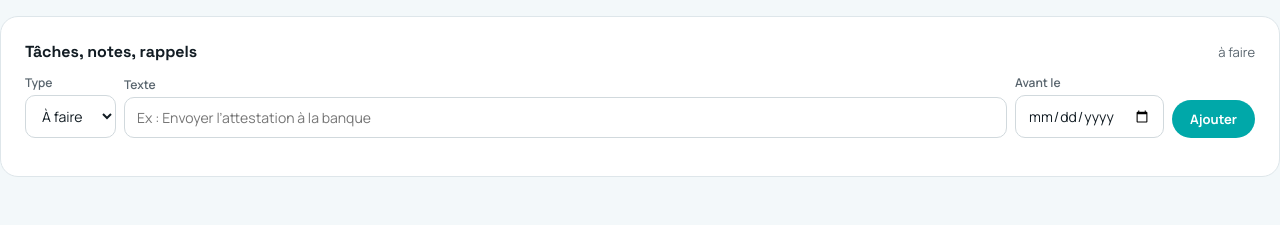
it: carte Tâches, notes, rappels › exige une date pour un rappel et le dit
Select "Rappel" in the dropdown labelled "Type" at (70, 116), box [25,95,116,138]
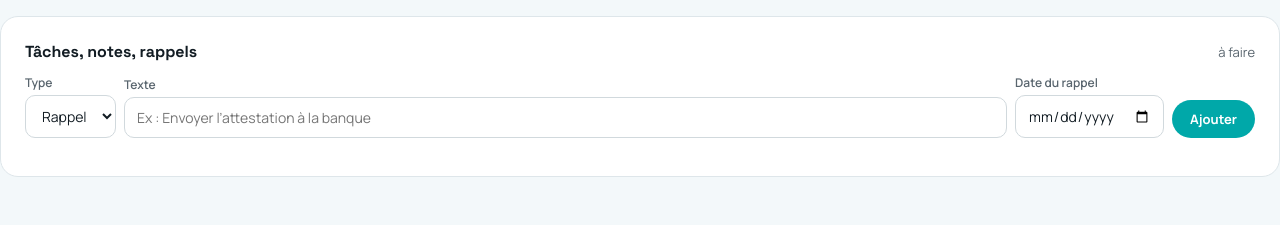
Type "Renouveler la carte" into the field labelled "Texte" at (566, 118), box [124,97,1007,138]
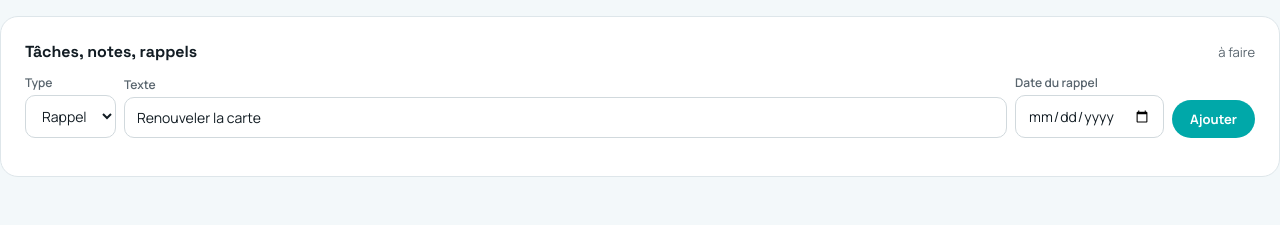
Click the button "Ajouter" at (1214, 119), box [1172,100,1255,138]
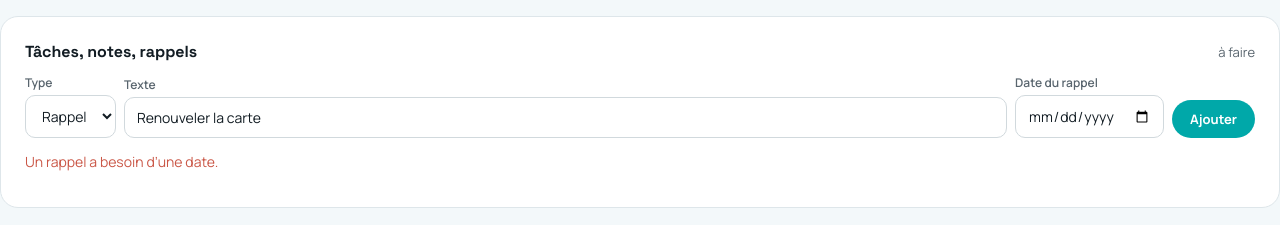
Now the message "Un rappel a besoin d’une date." is shown, box [25,152,218,171]
